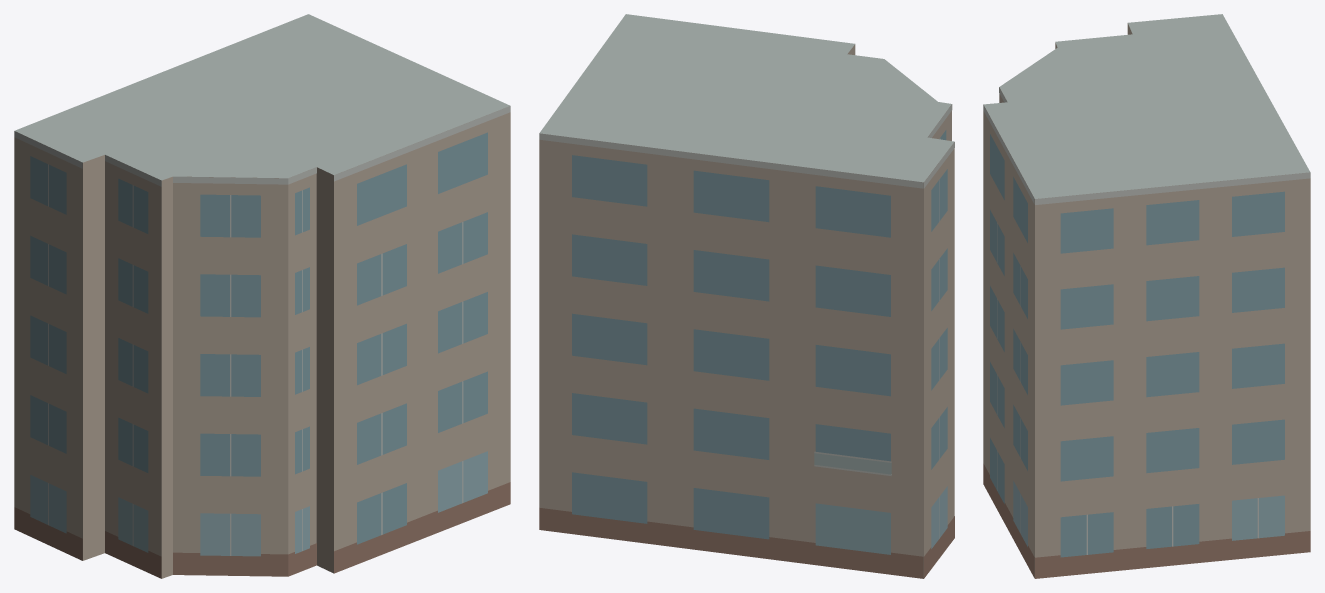
The model's file is survey-upis-32658466.glb.
The picture shows the model from 3 angles, left to right: view 1: azimuth 30°, elevation 25°; view 2: azimuth 150°, elevation 25°; view 3: azimuth 270°, elevation 25°; orthographic projection. The views are drawn at different scales.
Parts seen in each view (by area): view 1: survey-upis-32658466.tmp; view 2: survey-upis-32658466.tmp; view 3: survey-upis-32658466.tmp.
Part boxes in pixels (x1,y1,x2,y2): survey-upis-32658466.tmp: (14, 14, 510, 578); survey-upis-32658466.tmp: (539, 14, 954, 578); survey-upis-32658466.tmp: (983, 14, 1310, 578).
Size of the model in its own units: 15.95 by 15.25 by 11.91.
